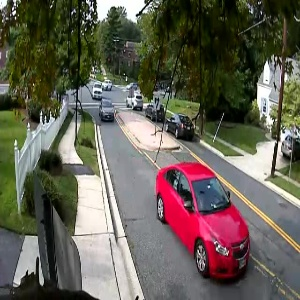car: (154, 157, 254, 286), (162, 112, 196, 141), (277, 132, 300, 163), (144, 99, 169, 126), (97, 97, 117, 126)
suv: (122, 90, 147, 114), (99, 77, 116, 91)
truck: (90, 79, 104, 102)
